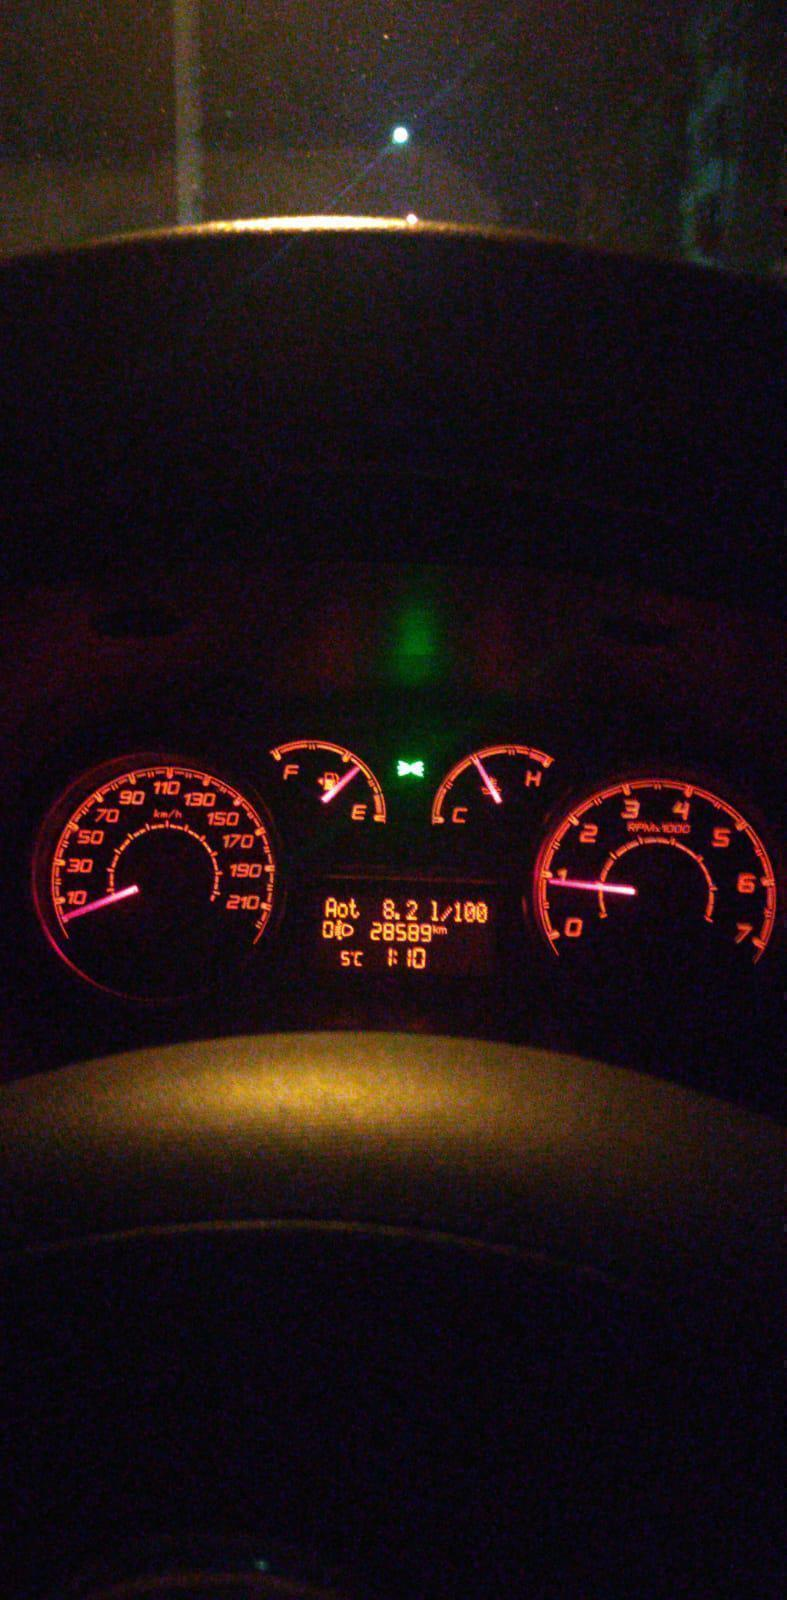,: (393, 911, 401, 920)
0: (411, 946, 425, 969), (476, 900, 488, 924), (463, 900, 476, 924), (319, 919, 333, 939)
1: (453, 899, 462, 924), (407, 946, 411, 969), (388, 946, 392, 968)
2: (404, 899, 419, 920), (370, 921, 382, 940)
5: (395, 923, 406, 942), (339, 949, 350, 966)
8: (383, 898, 394, 920), (382, 921, 394, 941), (407, 923, 419, 942)
9: (420, 923, 431, 942)
X: (348, 896, 360, 920), (324, 896, 336, 918), (440, 904, 452, 921), (430, 898, 438, 922), (337, 901, 348, 918), (354, 950, 364, 967), (438, 924, 447, 934), (393, 949, 398, 964), (432, 924, 438, 934)
odometer: (300, 876, 512, 989)
